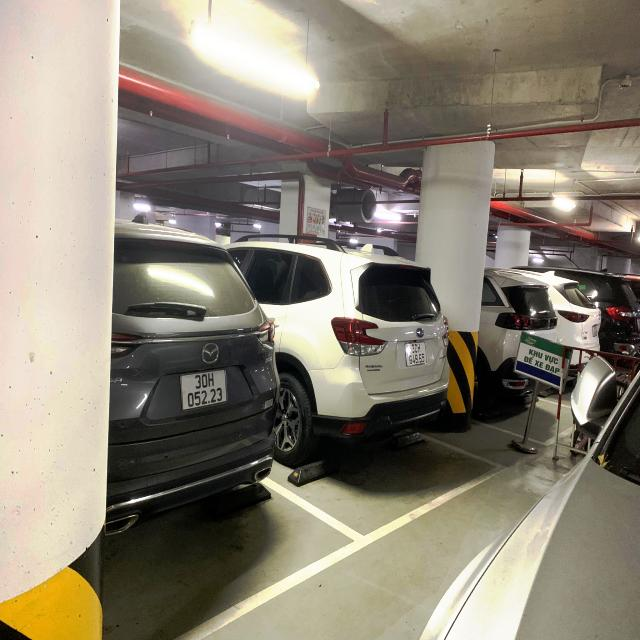license_plate: (179, 366, 231, 416), (404, 341, 429, 370)
